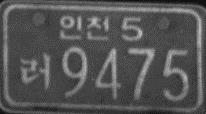4: (93, 47, 123, 100)
5: (161, 48, 190, 102), (120, 16, 144, 43)
7: (126, 46, 157, 103)
9: (60, 46, 89, 99)
러: (19, 52, 51, 93)
인천_O: (58, 13, 110, 43)
